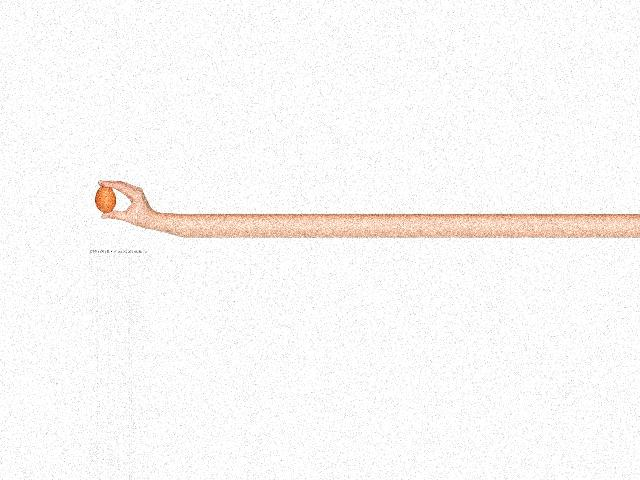egg: (94, 185, 115, 213)
